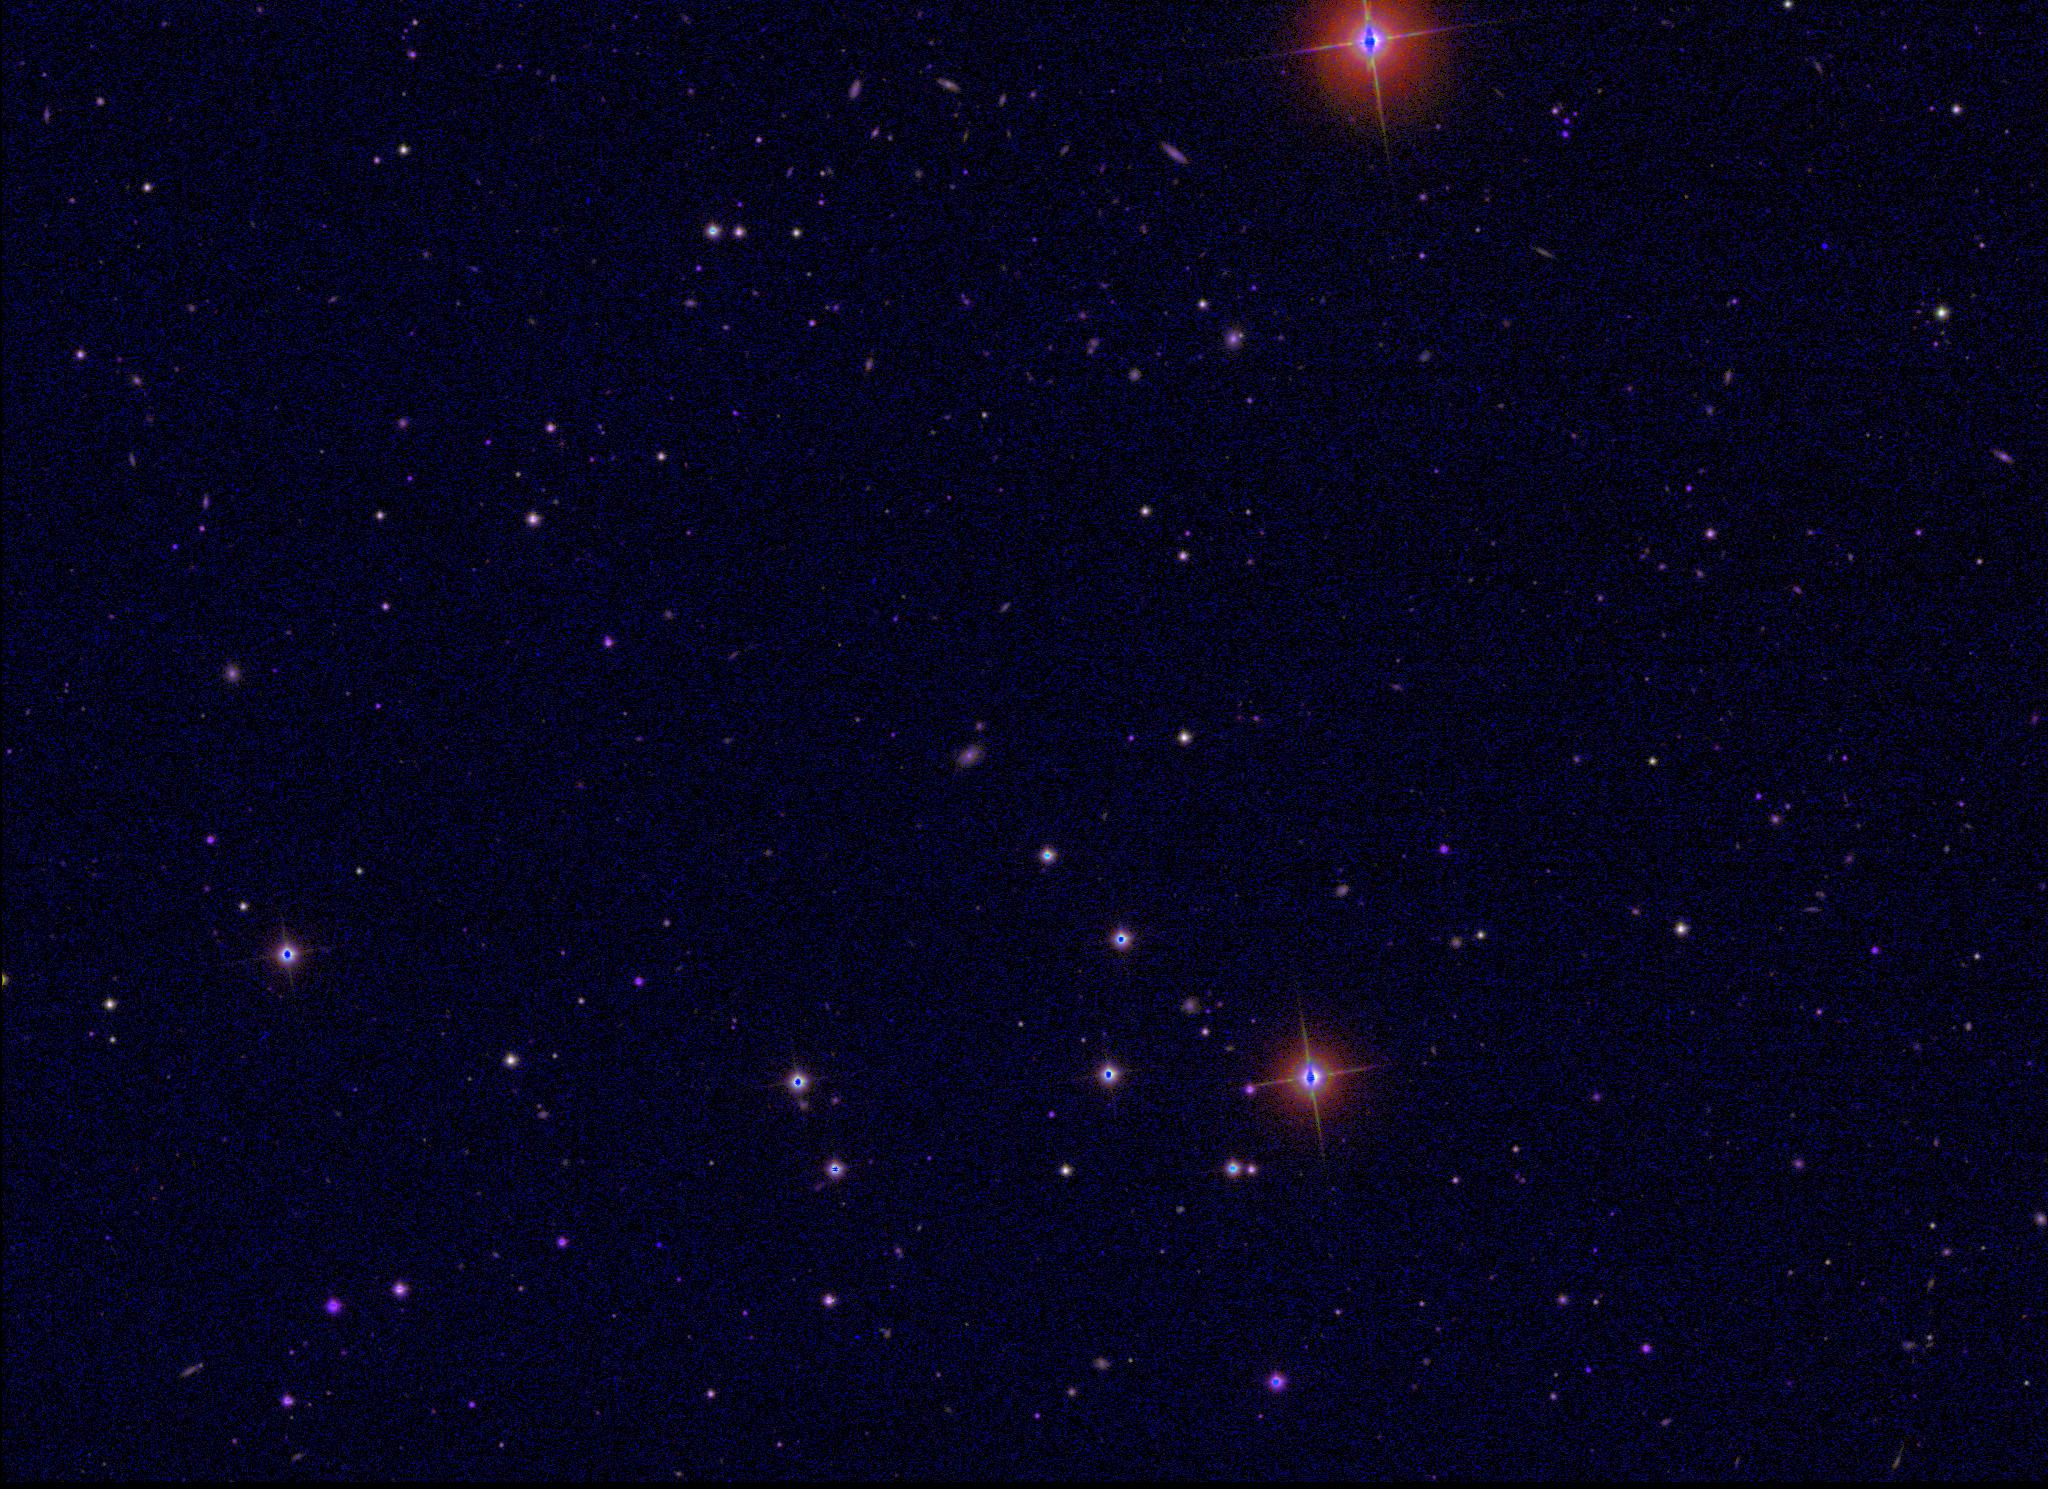L: (1817, 239, 1832, 253)
